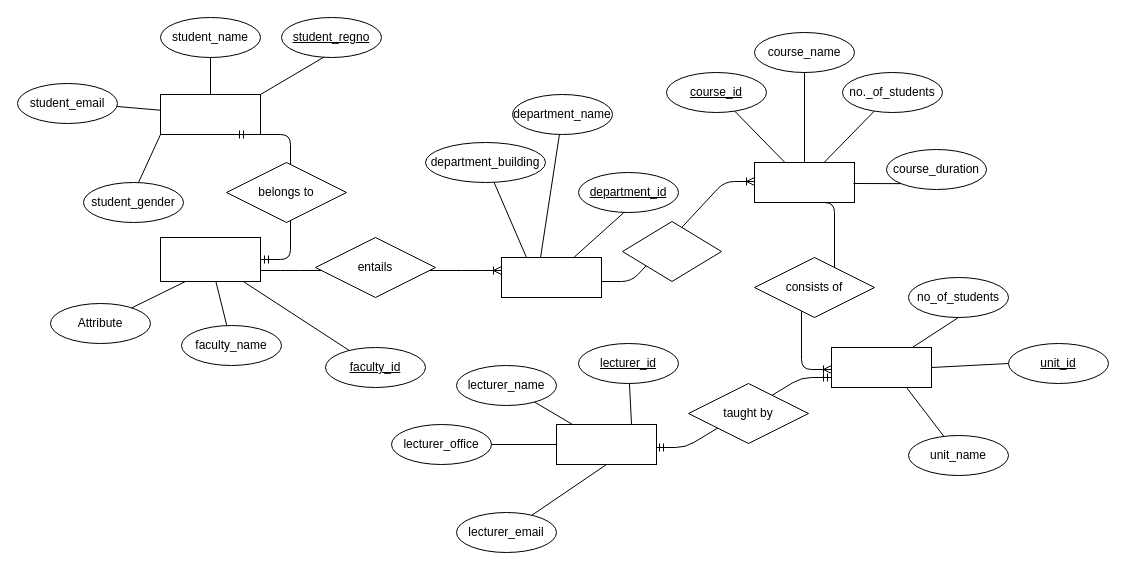
This 1126x570 diagram has some shape labels left out. Here are the shapes that lost their labels. From the top down, the centre of each, then its label:
At [210,114]: "students".
At [804,182]: "course".
At [210,259]: "faculty".
At [672,251]: "offers".
At [551,277]: "department".
At [881,367]: "units".
At [606,444]: "lecturer".
